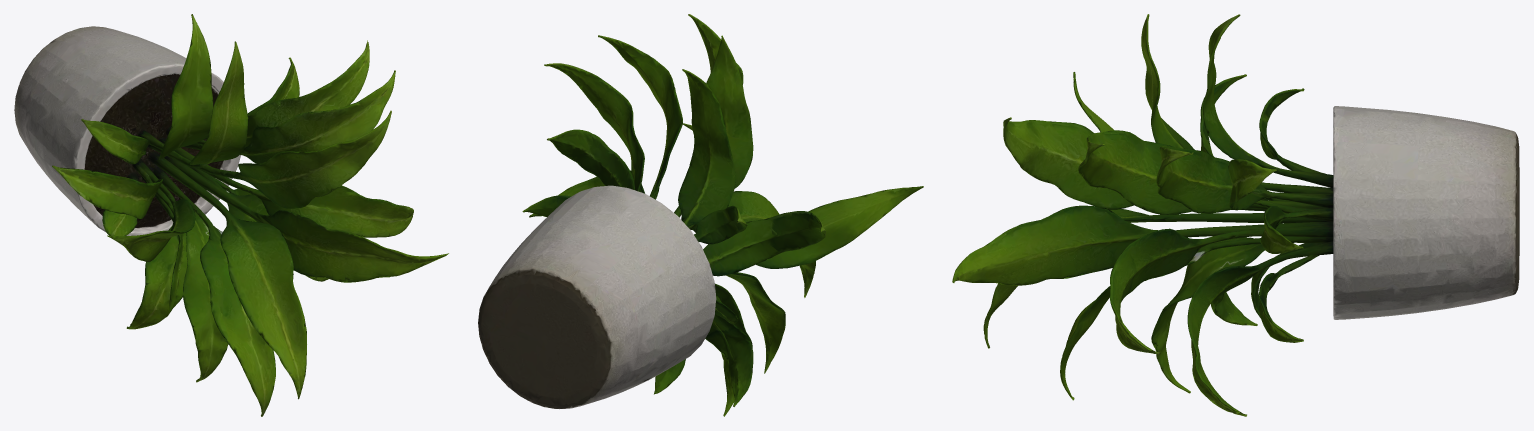
File: potted_plant.glb
The picture shows the model from 3 angles, left to right: view 1: azimuth 30°, elevation 25°; view 2: azimuth 150°, elevation 25°; view 3: azimuth 270°, elevation 25°; orthographic projection. The views are drawn at different scales.
Visible parts, largest first — view 1: Object_2; view 2: Object_2; view 3: Object_2.
Boxes of the visible parts, box(x1,y1,x2,y2) form: Object_2: box(14, 14, 448, 416); Object_2: box(478, 14, 923, 416); Object_2: box(952, 14, 1519, 416).
Bounding box in the file's own units: 0.7668 × 0.7455 × 0.9812.
Materials: 1 (1 with a texture image).
